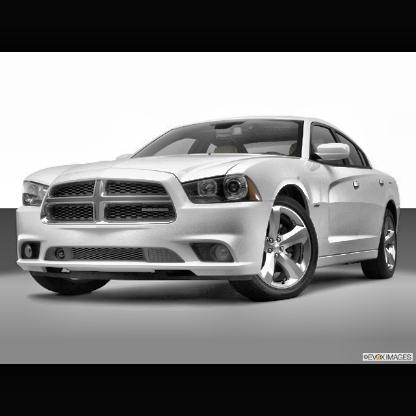Dodge Charger Sedan 2012: (14, 117, 404, 304)
